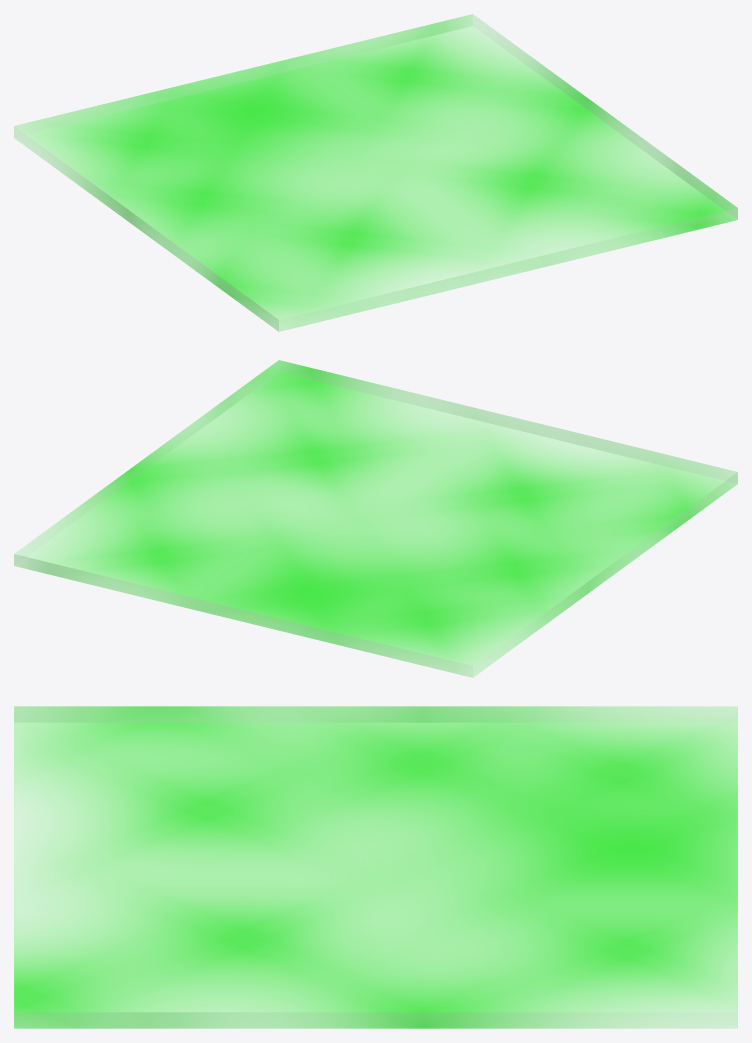
File: transparency_test.glb
3 renders of one model, top to bottom at view 1: azimuth 30°, elevation 25°; view 2: azimuth 150°, elevation 25°; view 3: azimuth 270°, elevation 25°, orthographic. The views are drawn at different scales.
Visible parts, largest first — view 1: Plane; view 2: Plane; view 3: Plane.
Part boxes in pixels (x1,y1,x2,y2): Plane: (14,14,737,331); Plane: (14,360,737,677); Plane: (14,706,737,1028).
Size of the model in its own units: 2 by 0.05 by 2.
1 material, 1 textured.
